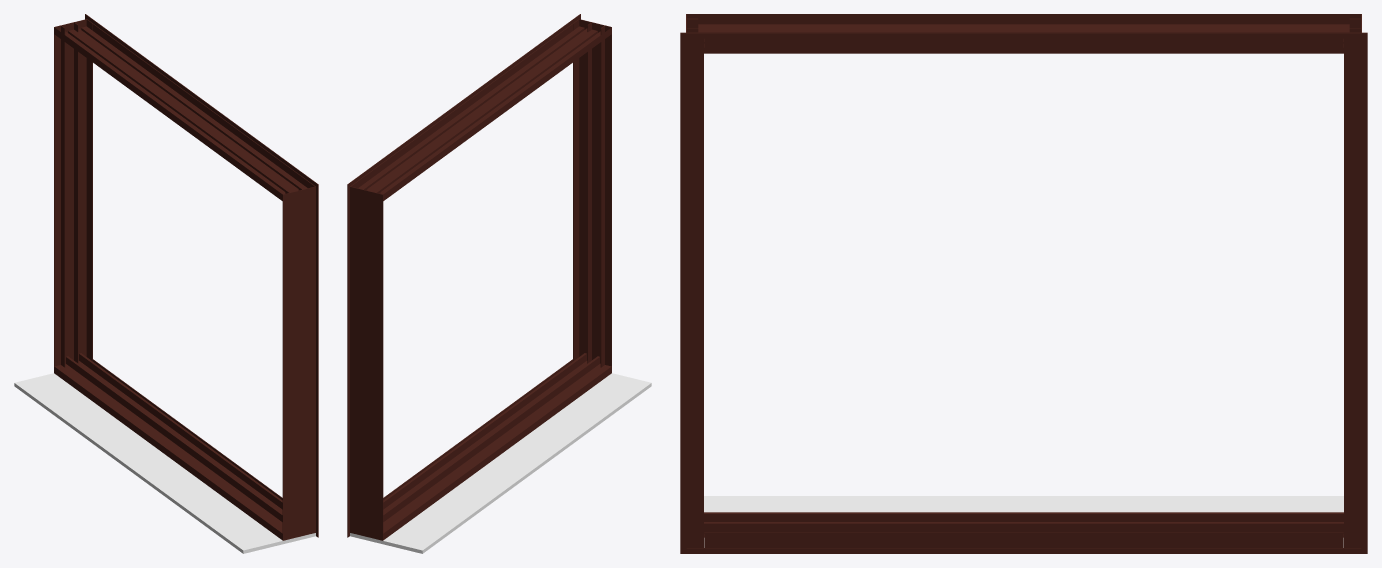
Rendered from window_flourishing.glb.
The picture shows the model from 3 angles, left to right: view 1: azimuth 30°, elevation 25°; view 2: azimuth 150°, elevation 25°; view 3: azimuth 270°, elevation 25°; orthographic projection. The views are drawn at different scales.
Visible parts, largest first — view 1: window_flourishing; view 2: window_flourishing; view 3: window_flourishing.
Boxes of the visible parts, bbox=[...] form: window_flourishing: bbox=[14, 14, 318, 553]; window_flourishing: bbox=[347, 14, 651, 553]; window_flourishing: bbox=[680, 14, 1367, 553].
Bounding box in the file's own units: 0.4994 × 2.29 × 2.74.
